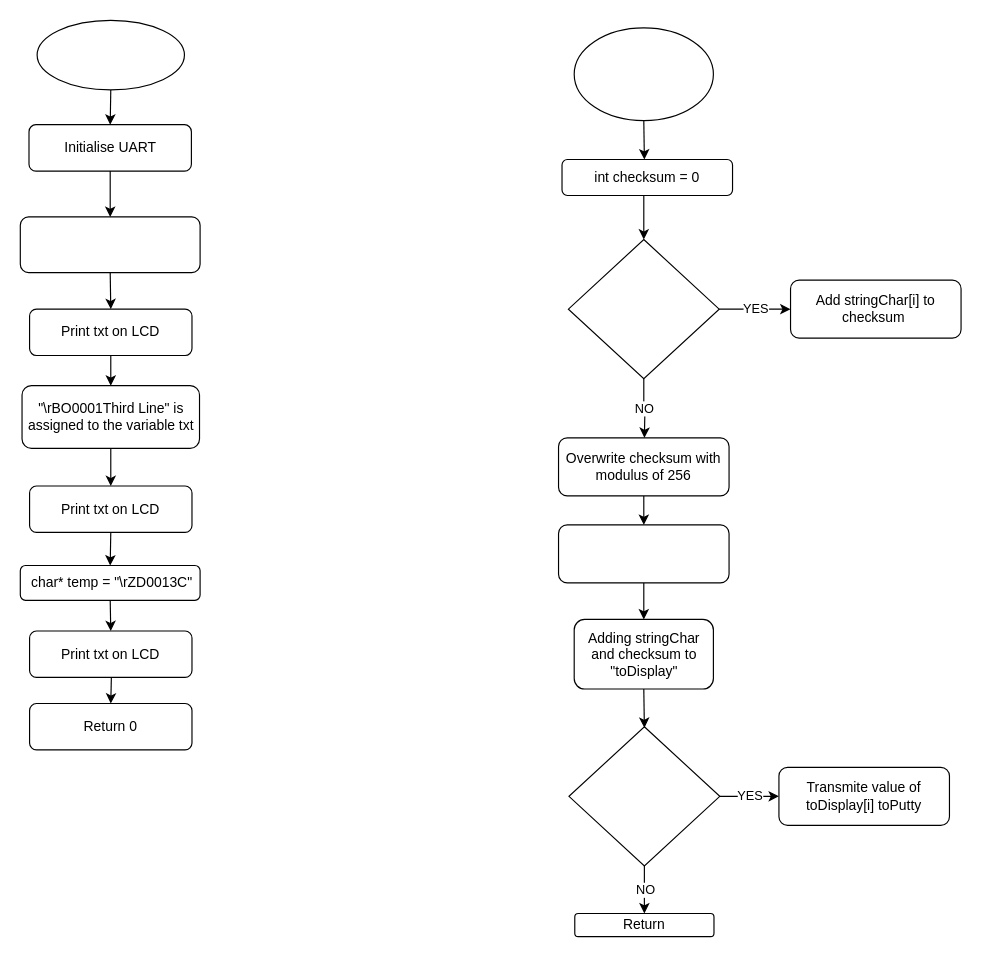
The diagram is 981 pixels wide and 957 high, and some of its shapes have lost their labels. The centre of each missing label's shape, as x and y in pixels:
char* temp = "\rAO0001First Line Second Line": (x=109, y=244)
Is i smaller than the length of stringChar ?: (x=643, y=308)
Is i smaller to the length of stringChar + 3 ?: (x=644, y=796)
New char array "toDisplay": (x=643, y=553)
Start: (x=110, y=54)
toDisplayOnLCD (char* stringChar): (x=643, y=74)
